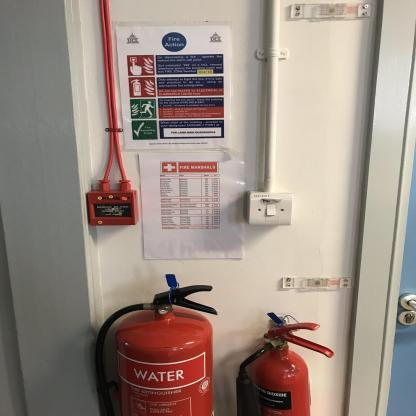Fire Extinguisher: (86, 259, 222, 410), (232, 300, 341, 416)
